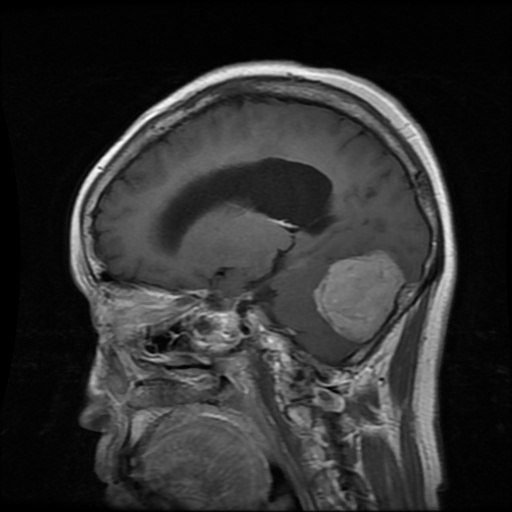meningioma: (315, 250, 405, 339)
